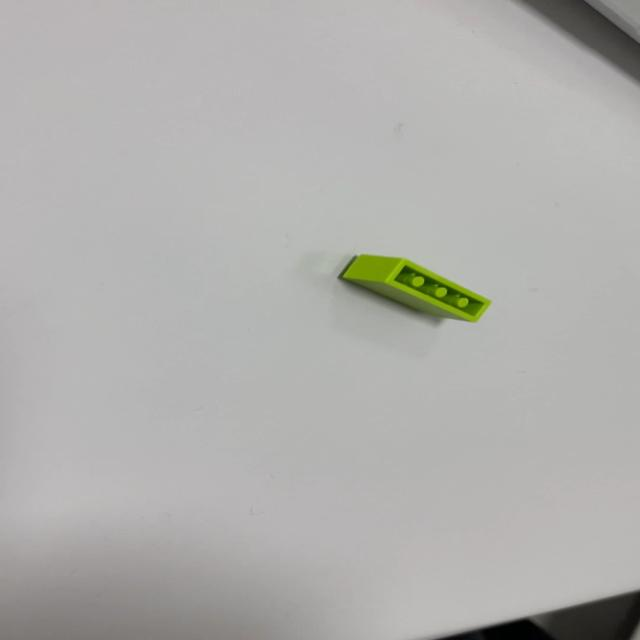C4x1x1: (337, 252, 492, 323)
